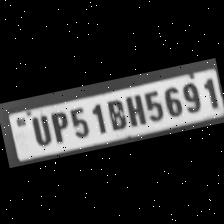1: (196, 74, 222, 111), (85, 99, 109, 136)
5: (64, 102, 92, 140), (140, 86, 165, 123)
6: (158, 82, 182, 118)
9: (178, 78, 204, 114)
B: (101, 94, 127, 132)
H: (121, 90, 146, 128)
P: (44, 106, 70, 142)
U: (25, 110, 53, 147)
